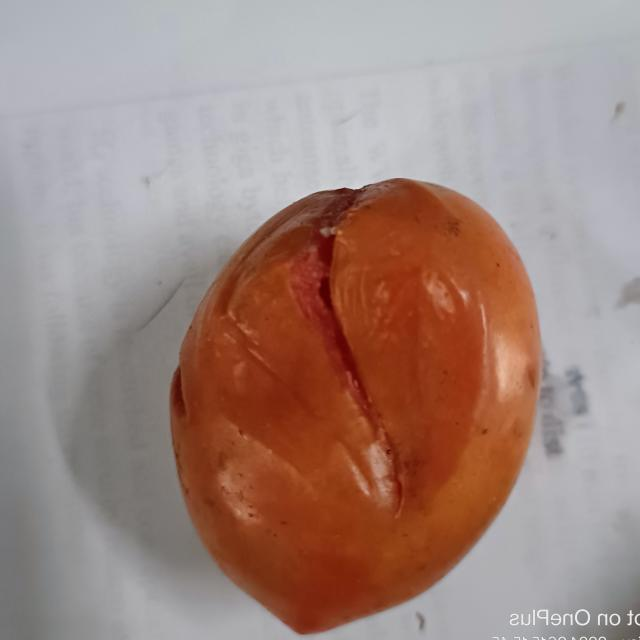Botrytis: (310, 191, 406, 500)
